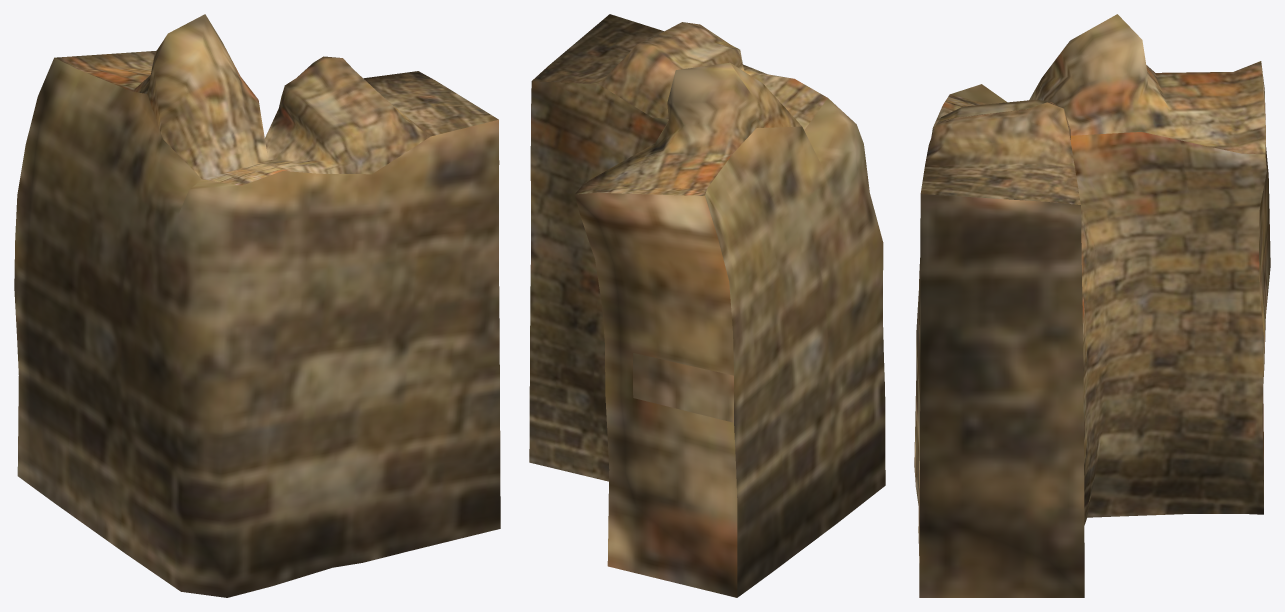
File: l_shaped.glb
The picture shows the model from 3 angles, left to right: view 1: azimuth 30°, elevation 25°; view 2: azimuth 150°, elevation 25°; view 3: azimuth 270°, elevation 25°; orthographic projection. The views are drawn at different scales.
Parts seen in each view (by area): view 1: fence.002; view 2: fence.002; view 3: fence.002.
Boxes of the visible parts, box(x1,y1,x2,y2) form: fence.002: box(14, 14, 500, 597); fence.002: box(529, 14, 885, 597); fence.002: box(914, 14, 1270, 597).
Size of the model in its own units: 0.6706 by 1.01 by 0.6801.
1 material, 1 textured.
